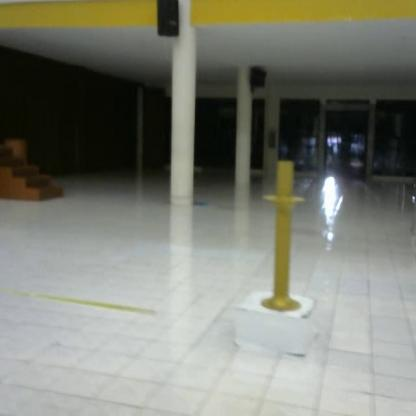pole: (260, 157, 308, 322)
